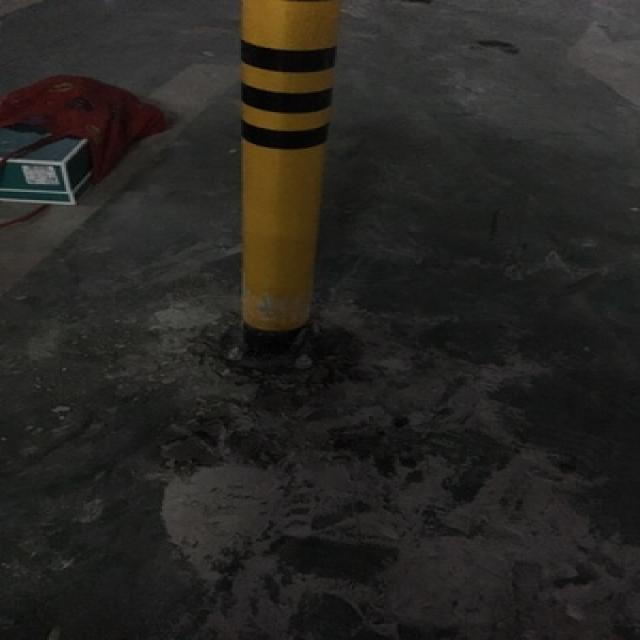warning_column: (228, 4, 339, 366)
